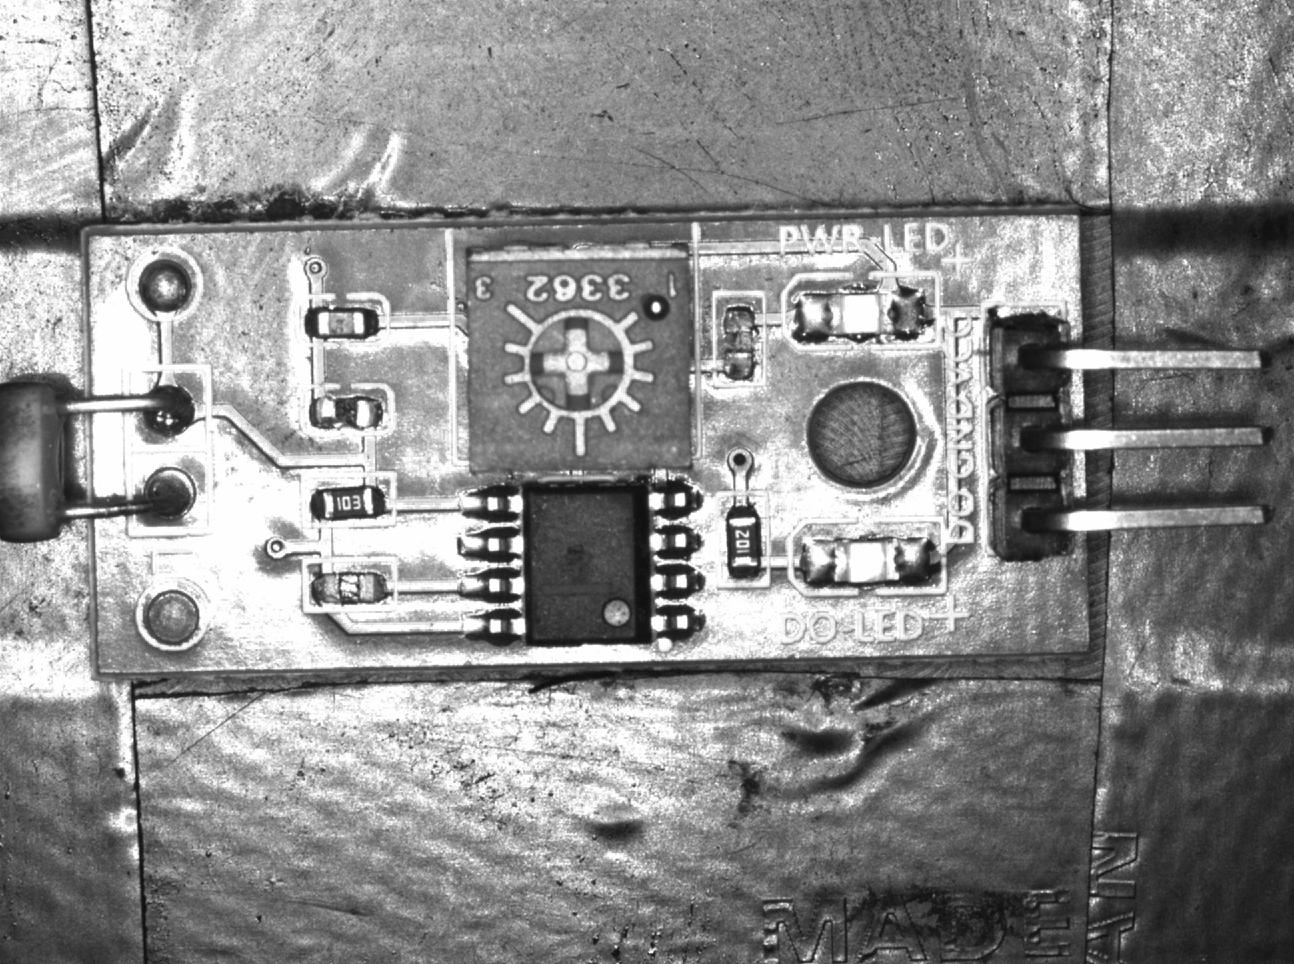miss: (298, 381, 399, 435), (713, 289, 766, 389), (304, 559, 400, 609)
ok: (294, 294, 391, 353), (714, 489, 769, 591), (300, 474, 396, 529)
